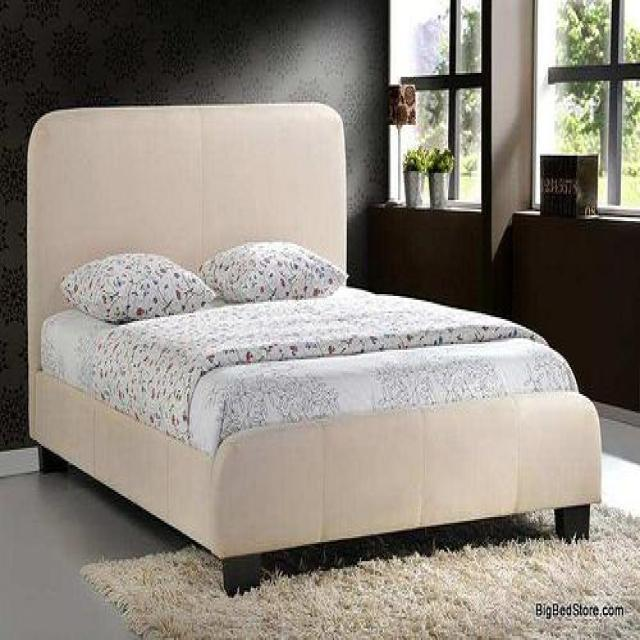bed: (25, 98, 603, 591)
